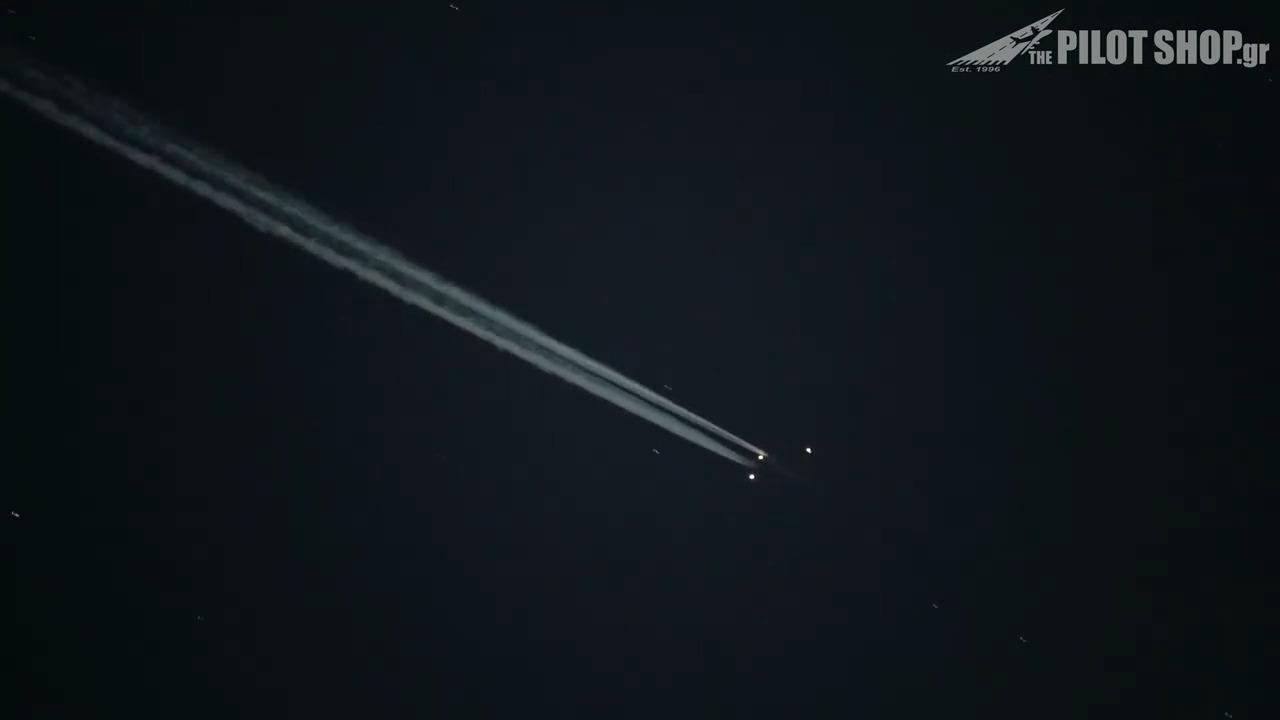Plane: (677, 409, 855, 516)
